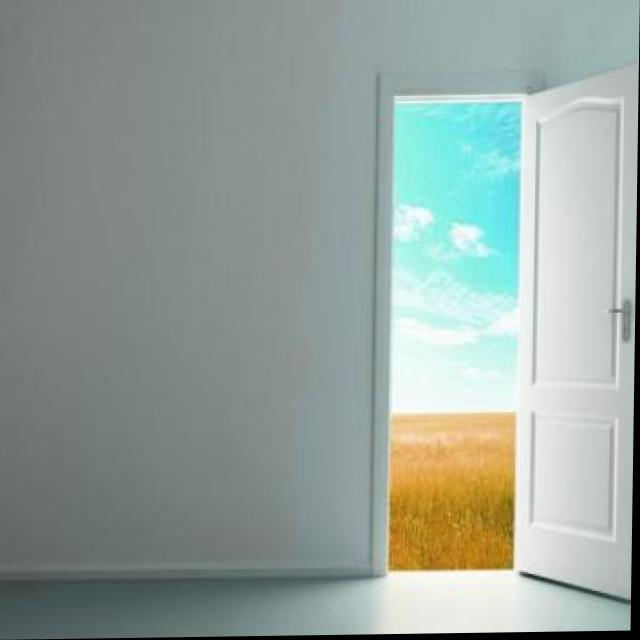door_handle: (594, 303, 637, 323)
